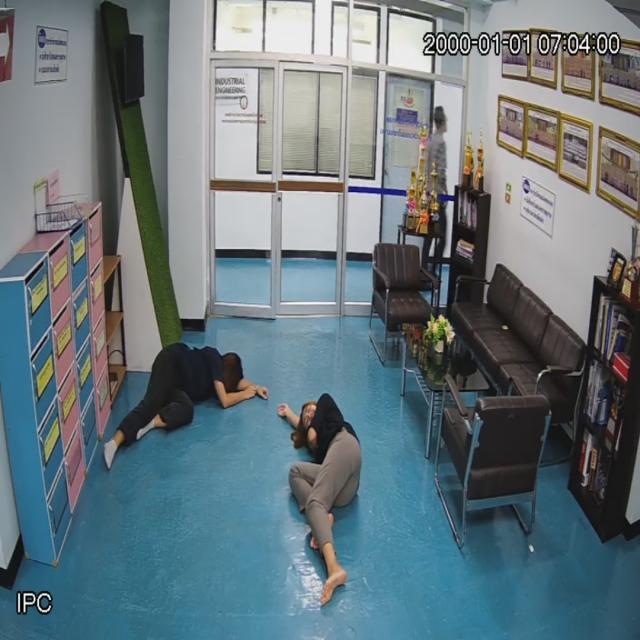fall: (99, 329, 255, 473), (275, 384, 366, 624)
